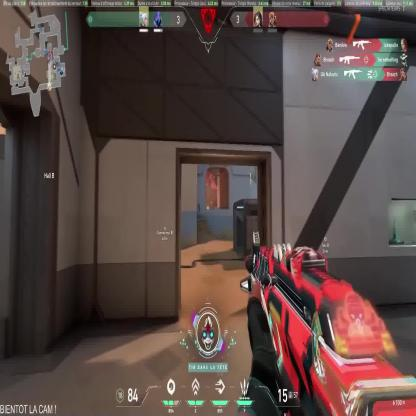enemy: (206, 204, 208, 216)
enemy_head: (206, 204, 207, 209)
